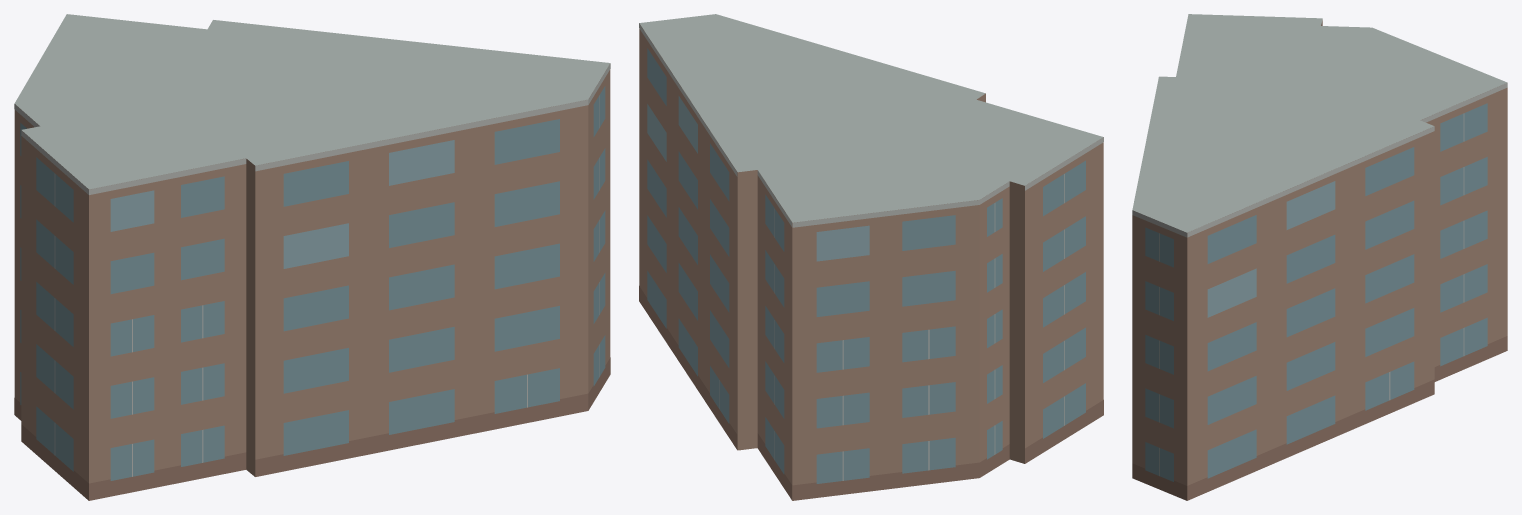
The model's file is survey-upis-32480099.glb.
3 renders of one model, left to right at view 1: azimuth 30°, elevation 25°; view 2: azimuth 150°, elevation 25°; view 3: azimuth 270°, elevation 25°, orthographic. The views are drawn at different scales.
Parts seen in each view (by area): view 1: survey-upis-32480099.tmp; view 2: survey-upis-32480099.tmp; view 3: survey-upis-32480099.tmp.
Part boxes in pixels (bbox=[...]): survey-upis-32480099.tmp: bbox=[14, 14, 610, 500]; survey-upis-32480099.tmp: bbox=[639, 14, 1103, 500]; survey-upis-32480099.tmp: bbox=[1132, 14, 1507, 500].
Bounding box in the file's own units: 23.28 × 13.3 × 16.88.
